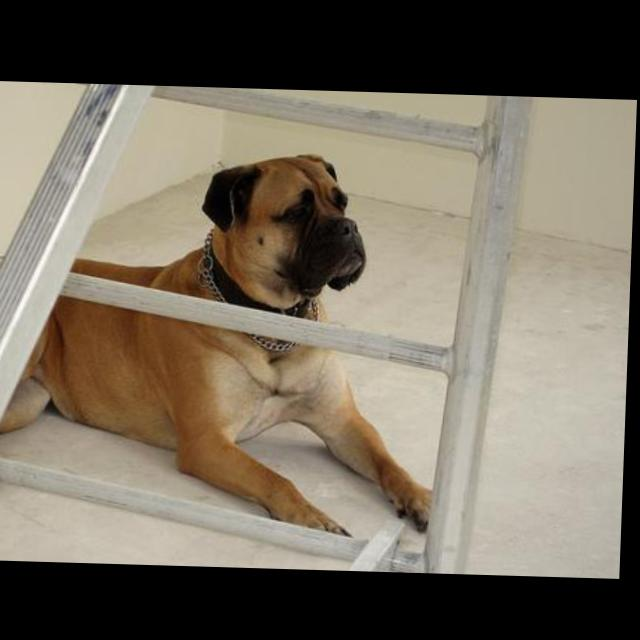bullmastiff: (1, 143, 449, 538)
